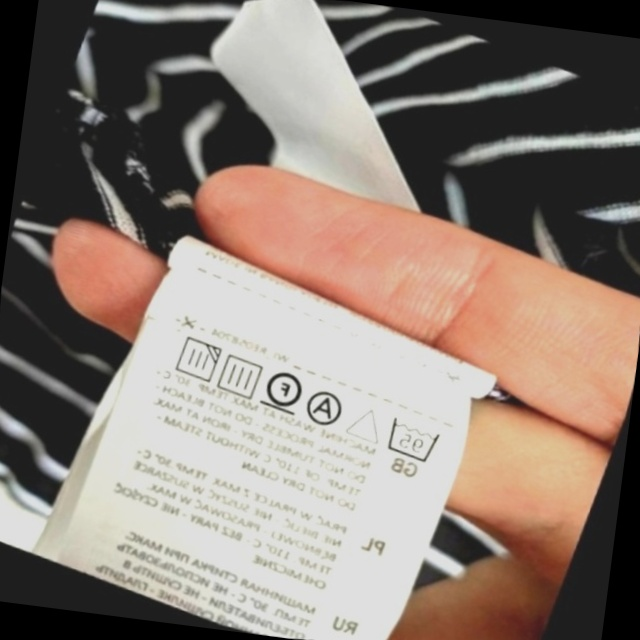95C: (373, 406, 450, 473)
bleach: (339, 393, 395, 453)
drip_dry: (208, 343, 273, 408)
drip_dry_in_shade: (162, 325, 230, 392)
dry_clean: (297, 380, 355, 436)
dry_clean_petrol_only: (252, 357, 315, 423)
